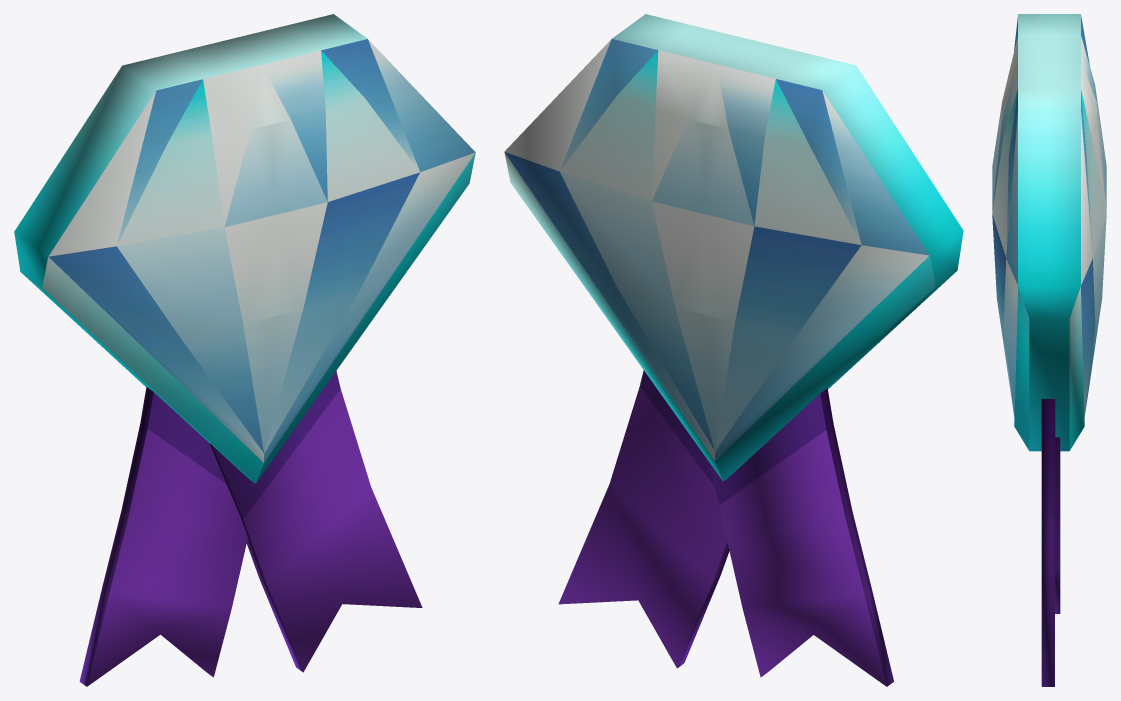
File: toprunDiamond.glb
3 views of the same model, side by side, from view 1: azimuth 30°, elevation 25°; view 2: azimuth 150°, elevation 25°; view 3: azimuth 270°, elevation 25° (orthographic). The views are drawn at different scales.
Parts seen in each view (by area): view 1: toprunDiamond; view 2: toprunDiamond; view 3: toprunDiamond.
Boxes of the visible parts, x1,y1,x2,y2 form: toprunDiamond: (14,14,475,686); toprunDiamond: (504,14,963,686); toprunDiamond: (992,14,1106,686).
Size of the model in its own units: 6.49 by 9.15 by 1.64.
Materials: 1 (1 with a texture image).
